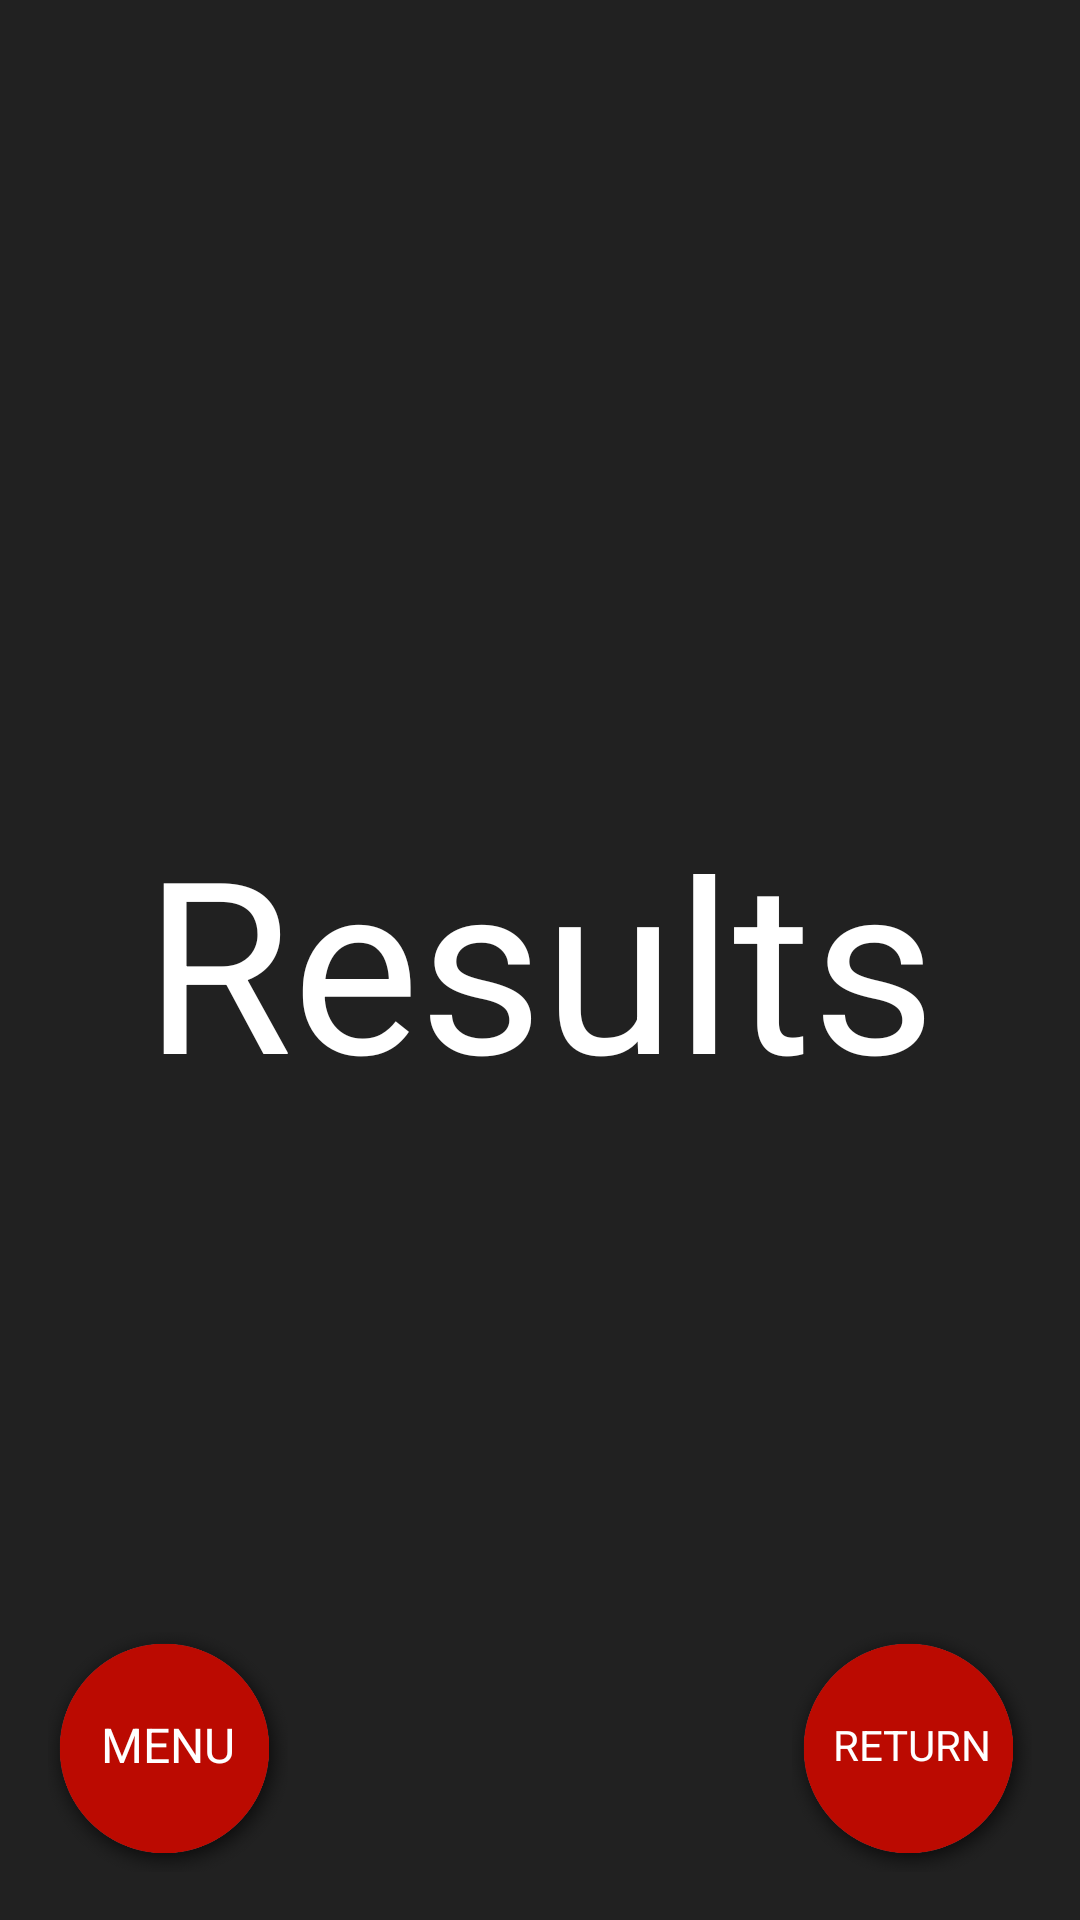

Icon bounding boxes for this 1080*1920 phone screenshot, format (x1, y1, x2, y2):
circle: (60, 1644, 269, 1853), (804, 1644, 1013, 1853)
